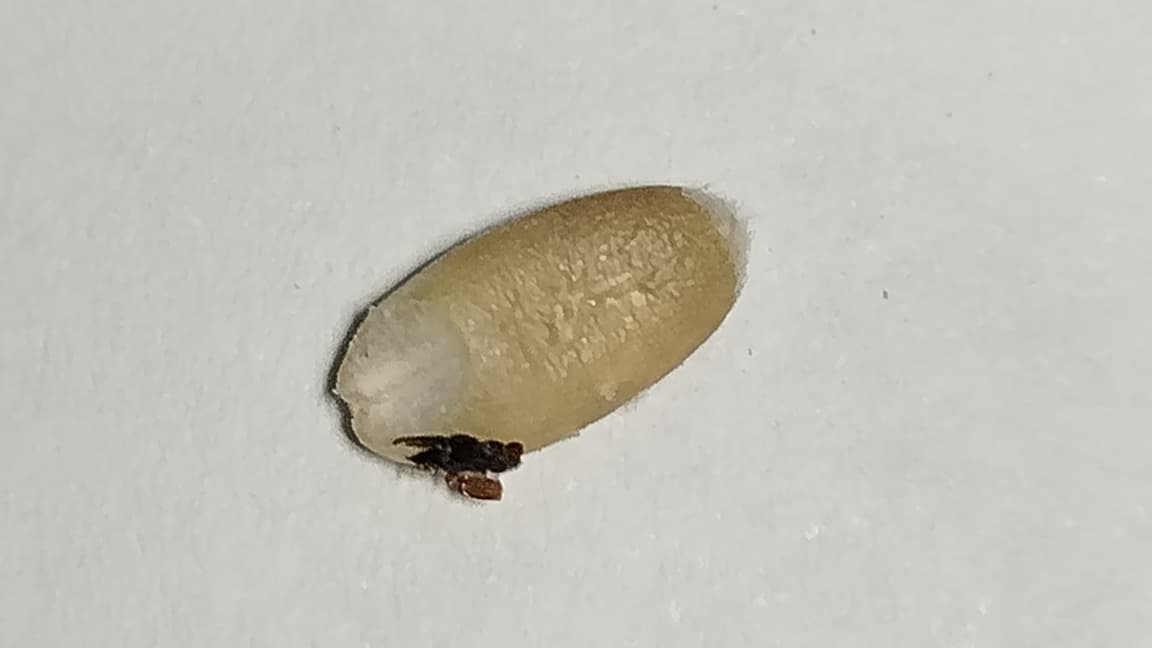damage: (336, 186, 748, 499)
insectdamage: (358, 282, 483, 433), (394, 430, 525, 505)
